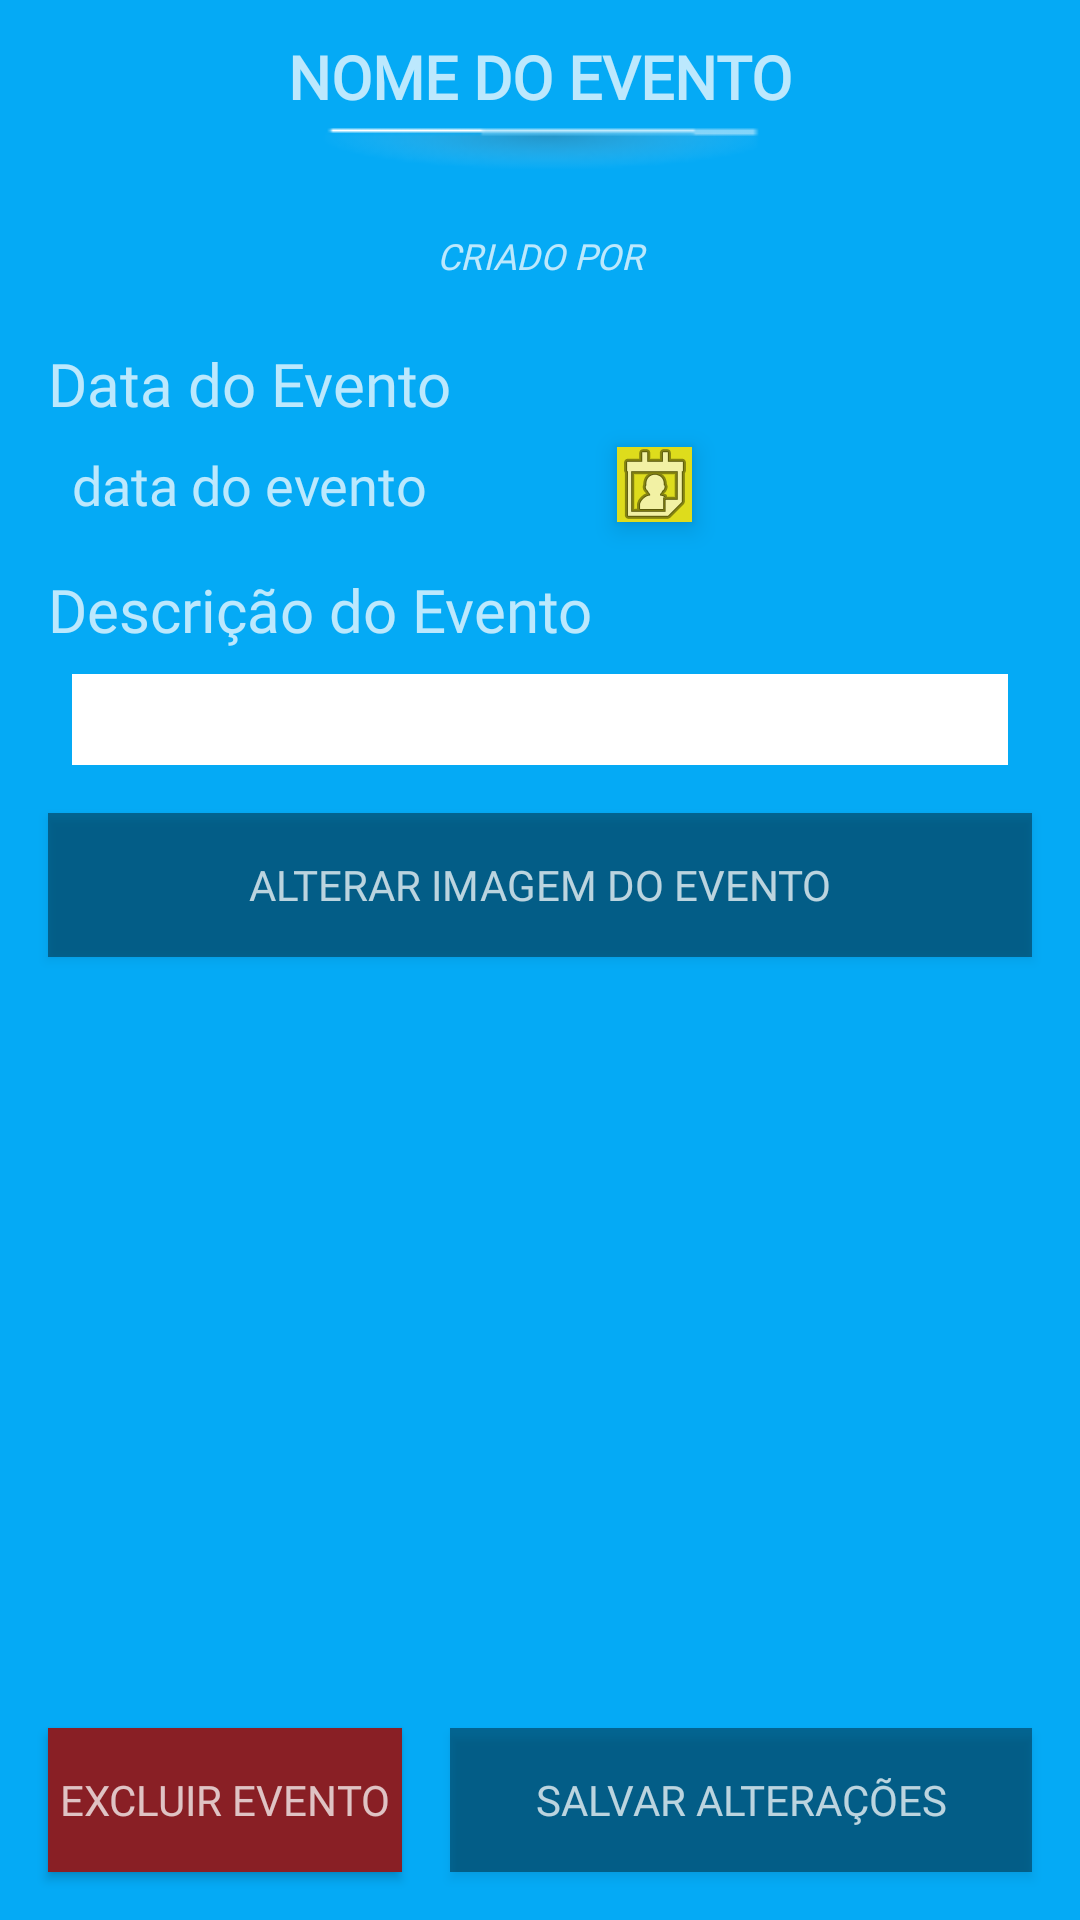

Screen size 1080 x 1920. Icon name, then its center in pixels as [x,y]:
calendar: [654,484]
